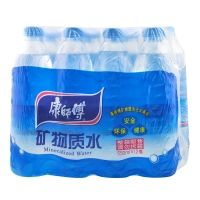amwater: (9, 20, 192, 181)
